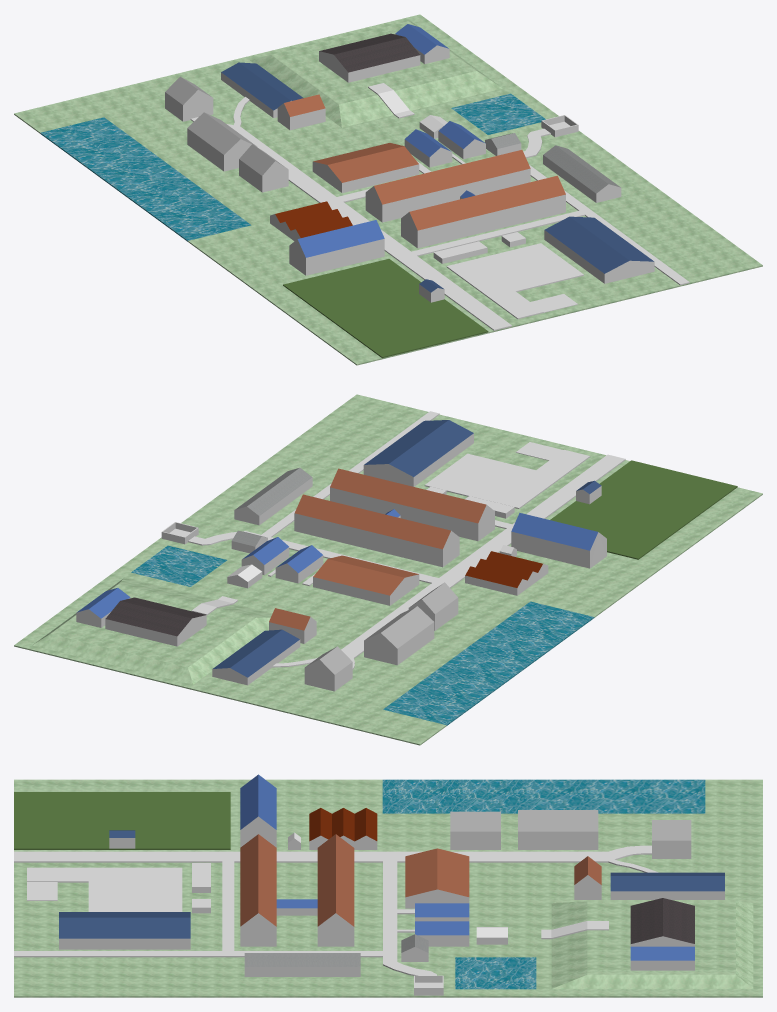
Rendered from school_map.glb.
The picture shows the model from 3 angles, top to bottom: view 1: azimuth 30°, elevation 25°; view 2: azimuth 150°, elevation 25°; view 3: azimuth 270°, elevation 25°; orthographic projection. The views are drawn at different scales.
Parts seen in each view (by area): view 1: G-Object, G-Object.001, G-Object.004, G-Object.005, G-Object.006, G-Object.021, G-Object.020, G-Object.002, G-Object.008, G-Object.022, G-Object.013, G-Object.019 (+13 smaller); view 2: G-Object, G-Object.001, G-Object.006, G-Object.004, G-Object.005, G-Object.021, G-Object.020, G-Object.002, G-Object.008, G-Object.022, G-Object.019, G-Object.013 (+11 smaller); view 3: G-Object, G-Object.001, G-Object.004, G-Object.021, G-Object.020, G-Object.006, G-Object.005, G-Object.008, G-Object.013, G-Object.019, G-Object.022, G-Object.024 (+16 smaller).
Part boxes in pixels (x1,y1,x2,y2): G-Object: (14, 14, 762, 365); G-Object.001: (283, 259, 488, 358); G-Object.004: (190, 97, 689, 330); G-Object.005: (401, 175, 565, 248); G-Object.006: (365, 150, 530, 222); G-Object.021: (446, 243, 583, 319); G-Object.020: (544, 216, 654, 283); G-Object.002: (289, 220, 384, 275); G-Object.008: (312, 143, 419, 192); G-Object.022: (319, 33, 420, 82); G-Object.013: (187, 112, 257, 171); G-Object.019: (221, 62, 303, 117); G-Object: (14, 394, 762, 745); G-Object.001: (550, 460, 737, 559); G-Object.006: (294, 494, 459, 567); G-Object.004: (188, 411, 625, 669); G-Object.005: (330, 468, 494, 541); G-Object.021: (424, 449, 590, 508); G-Object.020: (363, 420, 473, 486); G-Object.002: (511, 513, 606, 568); G-Object.008: (313, 555, 419, 605); G-Object.022: (105, 597, 206, 646); G-Object.019: (212, 629, 300, 685); G-Object.013: (364, 606, 434, 665); G-Object: (14, 779, 762, 997); G-Object.001: (14, 792, 230, 849); G-Object.004: (14, 845, 658, 975); G-Object.021: (27, 867, 182, 911); G-Object.020: (59, 912, 190, 949); G-Object.006: (317, 834, 354, 946); G-Object.005: (240, 834, 276, 946); G-Object.008: (405, 848, 469, 908); G-Object.013: (518, 810, 598, 849); G-Object.019: (610, 872, 724, 899); G-Object.022: (630, 898, 694, 946); G-Object.024: (244, 953, 360, 976).
Bounding box in the file's own units: 19.56 × 1.46 × 28.61.
11 materials, 4 textured.
